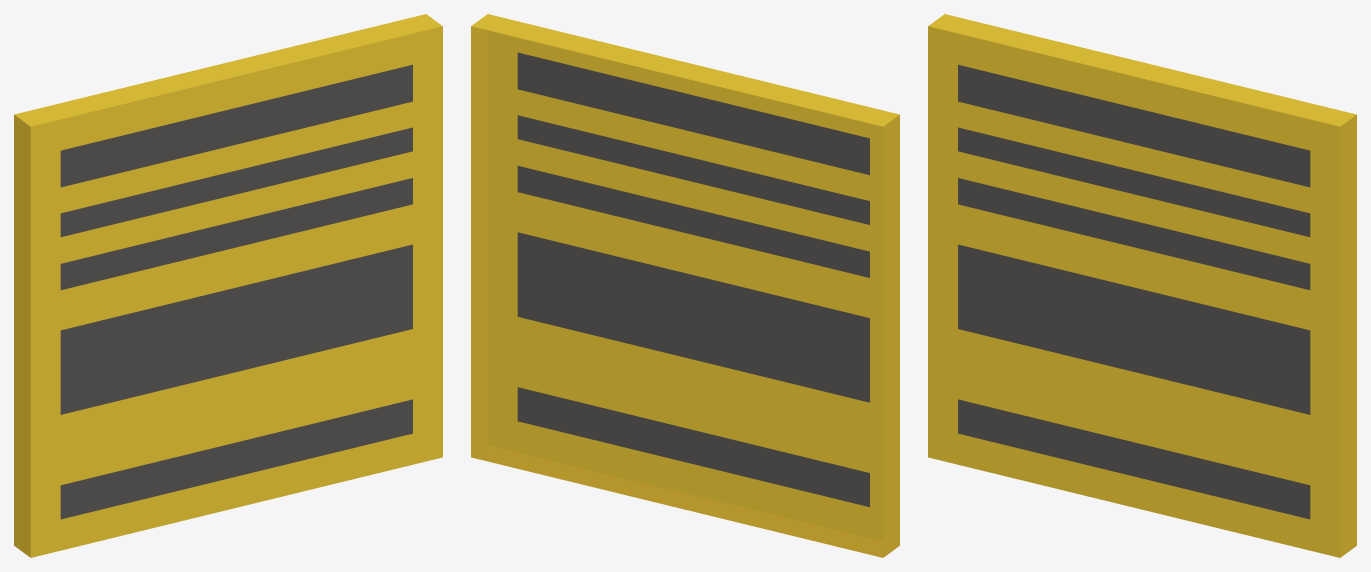
Rendered from WallDeco2.glb.
3 renders of one model, left to right at view 1: azimuth 30°, elevation 25°; view 2: azimuth 150°, elevation 25°; view 3: azimuth 330°, elevation 25°, orthographic.
Visible parts, largest first — view 1: SI_Prop_WallDeco_02; view 2: SI_Prop_WallDeco_02; view 3: SI_Prop_WallDeco_02.
Part boxes in pixels (x1,y1,x2,y2): SI_Prop_WallDeco_02: [14, 14, 442, 557]; SI_Prop_WallDeco_02: [471, 14, 899, 557]; SI_Prop_WallDeco_02: [928, 14, 1356, 557].
Size of the model in its own units: 0.01 by 0.01 by 0.000702.
Materials: 1 (1 with a texture image).
